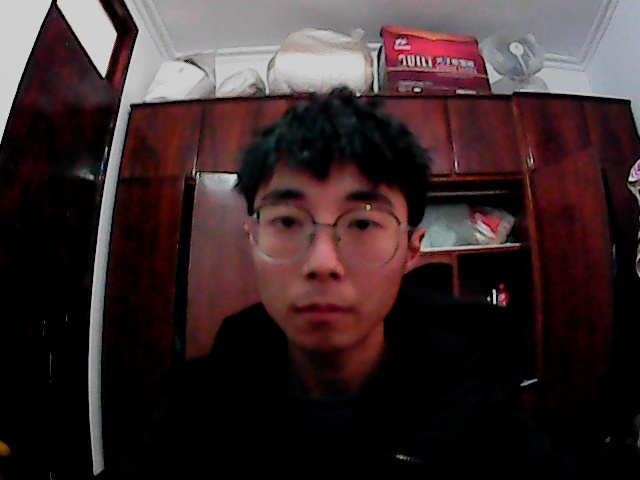face: (229, 88, 427, 360)
